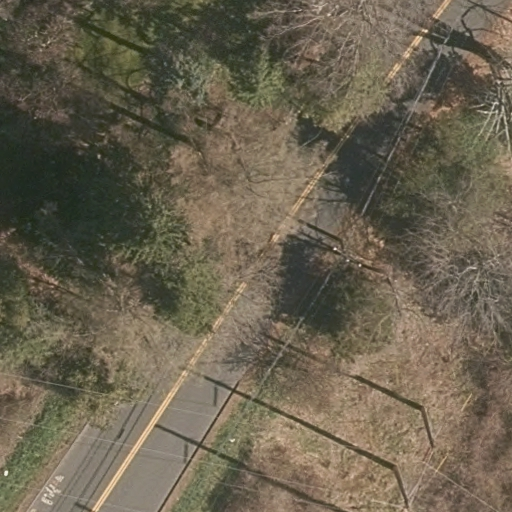DT: (410, 394, 455, 472), (378, 453, 423, 512)
